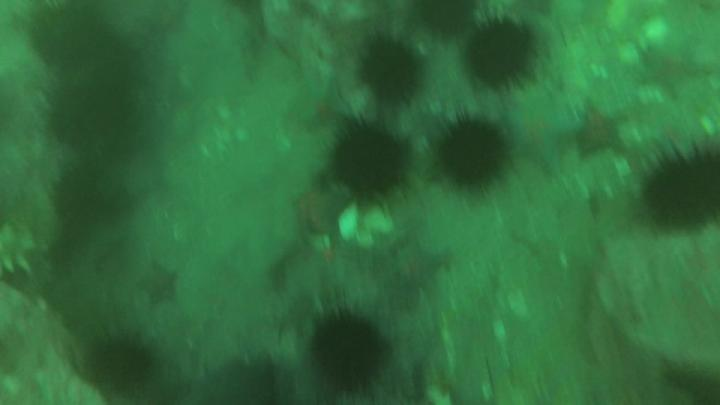echinus: (310, 314, 386, 388), (647, 155, 720, 228), (332, 130, 407, 192), (53, 85, 122, 149), (34, 5, 103, 67), (443, 121, 506, 187), (468, 18, 530, 81), (51, 165, 113, 227), (362, 41, 420, 101), (94, 338, 150, 390), (417, 1, 480, 33)
starfish: (508, 97, 579, 170), (575, 104, 628, 157), (295, 81, 353, 126), (394, 244, 444, 291), (136, 263, 177, 304)
